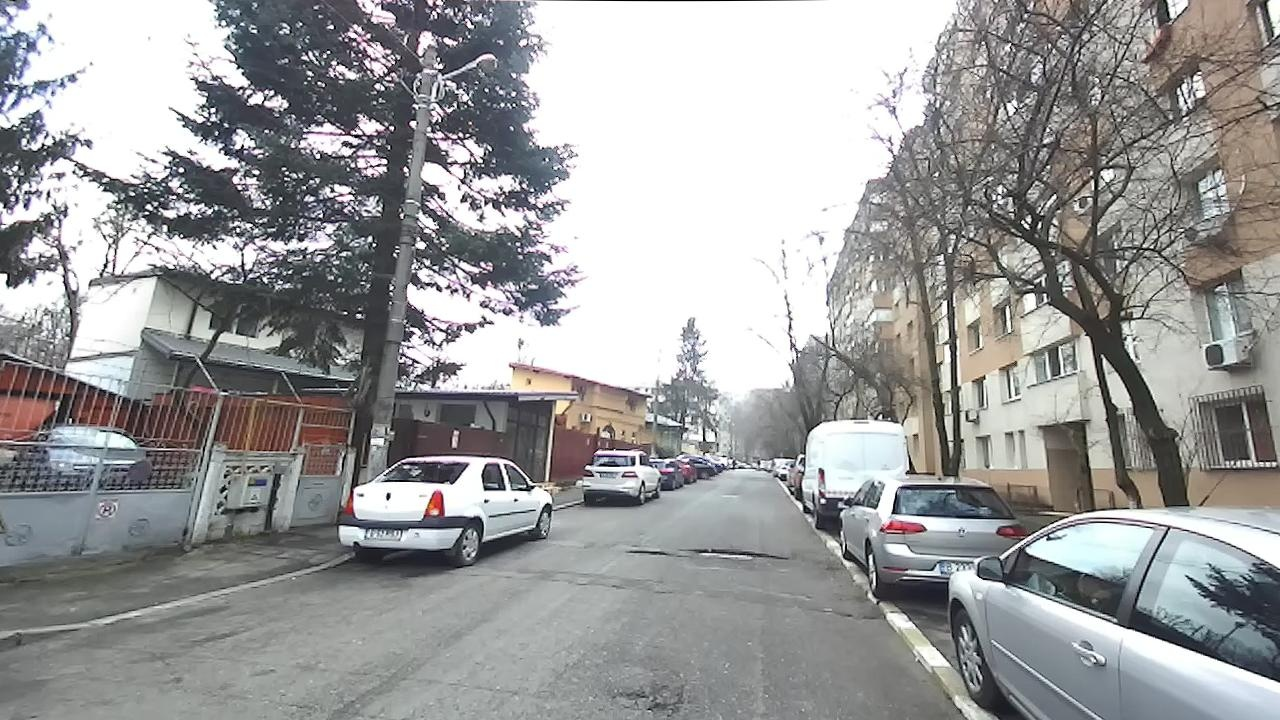pothole: (611, 684, 681, 715), (693, 546, 788, 559), (625, 549, 673, 558)
